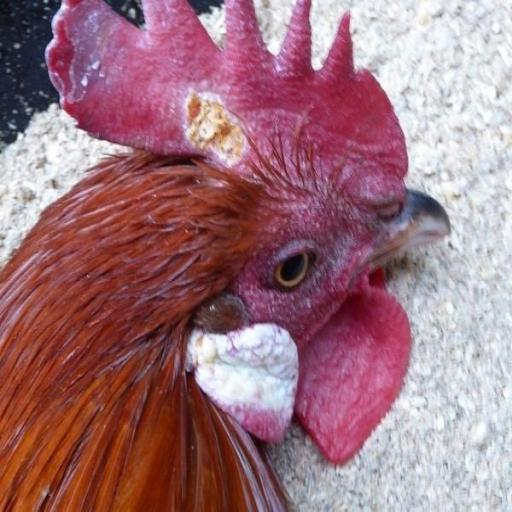disease: (170, 322, 321, 445), (178, 64, 259, 182), (37, 0, 123, 104)
